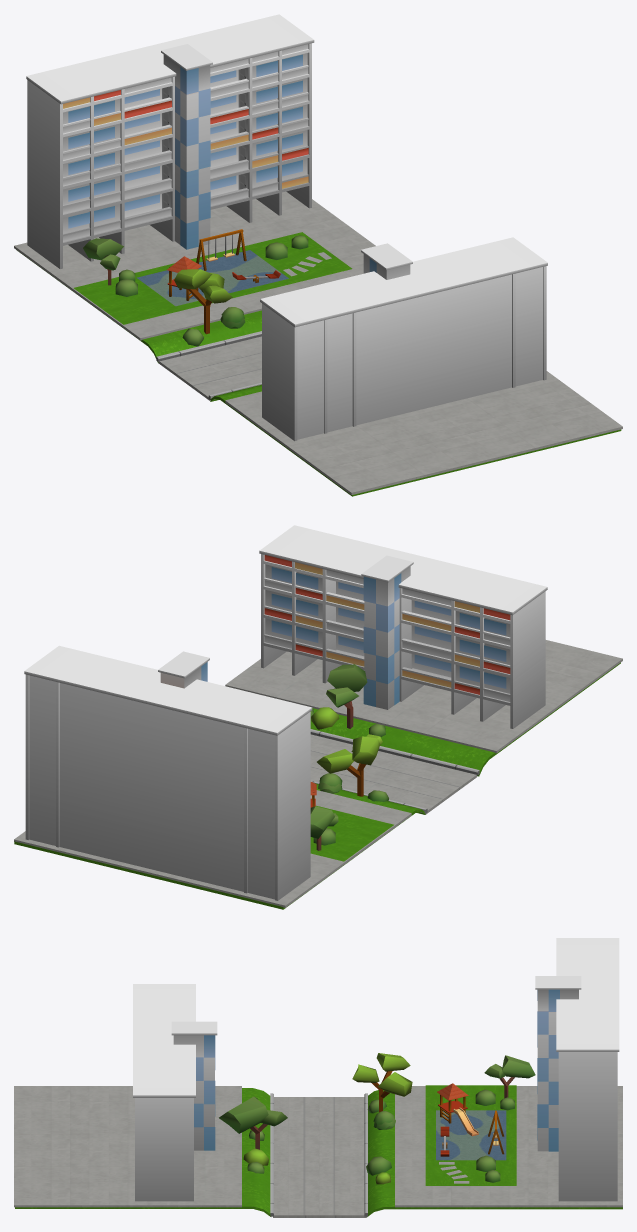
Rendered from Level 1 Chunk 3 V3.fbx.
3 renders of one model, top to bottom at view 1: azimuth 30°, elevation 25°; view 2: azimuth 150°, elevation 25°; view 3: azimuth 270°, elevation 25°, orthographic. The views are drawn at different scales.
Visible parts, largest first — view 1: pCube15122, pCube15119, pCube13886, pCube13885, pCube15124, pCube13875, pCube13871, pCube13877, pCube13872; view 2: pCube15122, pCube15119, pCube13886, pCube13875, pCube13885, pCube13872, pCube15124, pCube13877, pCube13871, polySurface52, pCube13880; view 3: pCube15122, pCube13886, pCube15119, pCube13875, pCube13885, pCube15124, pCube13871, pCube13872, pCube13877, polySurface52, pCube13873, pCube13880.
Part boxes in pixels (<box>): pCube15122: <box>26,14,314,268</box>; pCube15119: <box>260,237,547,441</box>; pCube13886: <box>225,371,622,495</box>; pCube13885: <box>14,191,375,340</box>; pCube15124: <box>73,229,352,324</box>; pCube13875: <box>158,336,261,400</box>; pCube13871: <box>17,250,261,362</box>; pCube13877: <box>174,269,232,334</box>; pCube13872: <box>210,384,621,496</box>; pCube15122: <box>24,645,312,900</box>; pCube15119: <box>259,525,547,728</box>; pCube13886: <box>225,640,622,753</box>; pCube13875: <box>310,734,476,814</box>; pCube13885: <box>14,790,411,907</box>; pCube13872: <box>310,662,620,776</box>; pCube15124: <box>310,782,393,861</box>; pCube13877: <box>317,734,382,796</box>; pCube13871: <box>14,783,425,909</box>; polySurface52: <box>326,664,367,728</box>; pCube13880: <box>310,729,479,775</box>; pCube15122: <box>535,938,619,1201</box>; pCube13886: <box>14,1086,241,1207</box>; pCube15119: <box>133,984,217,1201</box>; pCube13875: <box>273,1097,366,1217</box>; pCube13885: <box>395,1086,622,1207</box>; pCube15124: <box>425,1055,535,1185</box>; pCube13871: <box>367,1090,622,1216</box>; pCube13872: <box>15,1088,270,1216</box>; pCube13877: <box>352,1053,412,1112</box>; polySurface52: <box>219,1096,287,1149</box>; pCube13873: <box>364,1093,367,1216</box>; pCube13880: <box>270,1093,273,1216</box>.
Bounding box in the file's own units: 12.41 × 8.52 × 26.6.
2 materials, 2 textured.
